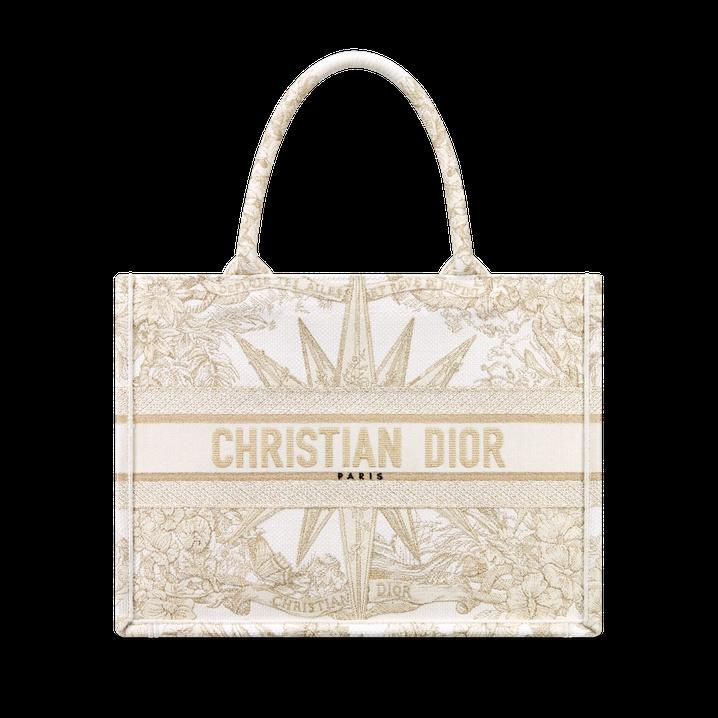DIOR: (197, 405, 514, 491)
